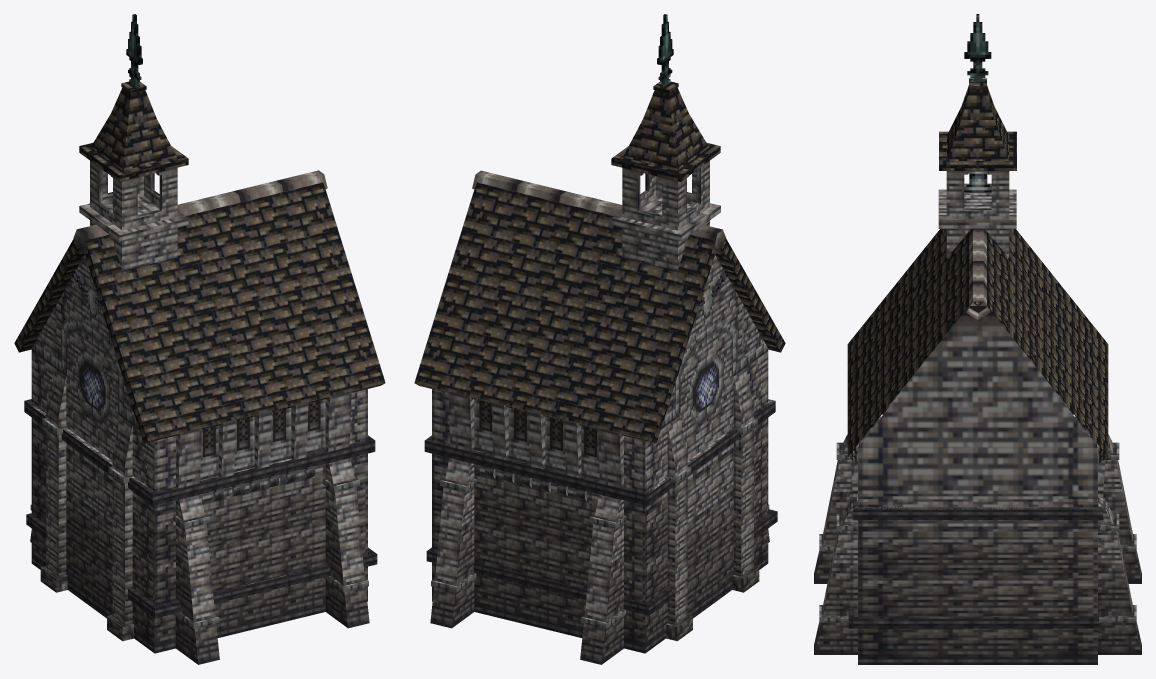
File: ObjMD_Church_Mount.FBX
3 renders of one model, left to right at view 1: azimuth 30°, elevation 25°; view 2: azimuth 150°, elevation 25°; view 3: azimuth 270°, elevation 25°, orthographic. The views are drawn at different scales.
Visible parts, largest first — view 1: ObjMD_Church_Mount; view 2: ObjMD_Church_Mount; view 3: ObjMD_Church_Mount.
Boxes of the visible parts, x1,y1,x2,y2 form: ObjMD_Church_Mount: (14, 14, 385, 664); ObjMD_Church_Mount: (414, 14, 785, 664); ObjMD_Church_Mount: (814, 14, 1141, 664).
Bounding box in the file's own units: 567 × 1307 × 683.
